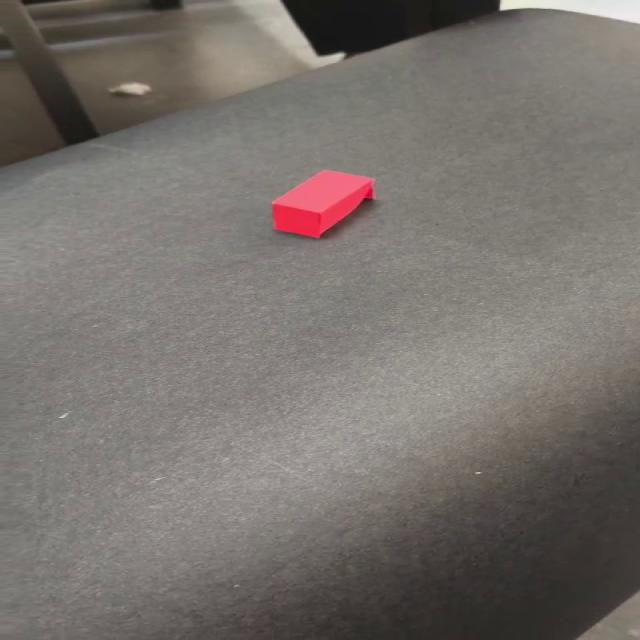red block: (269, 169, 376, 238)
